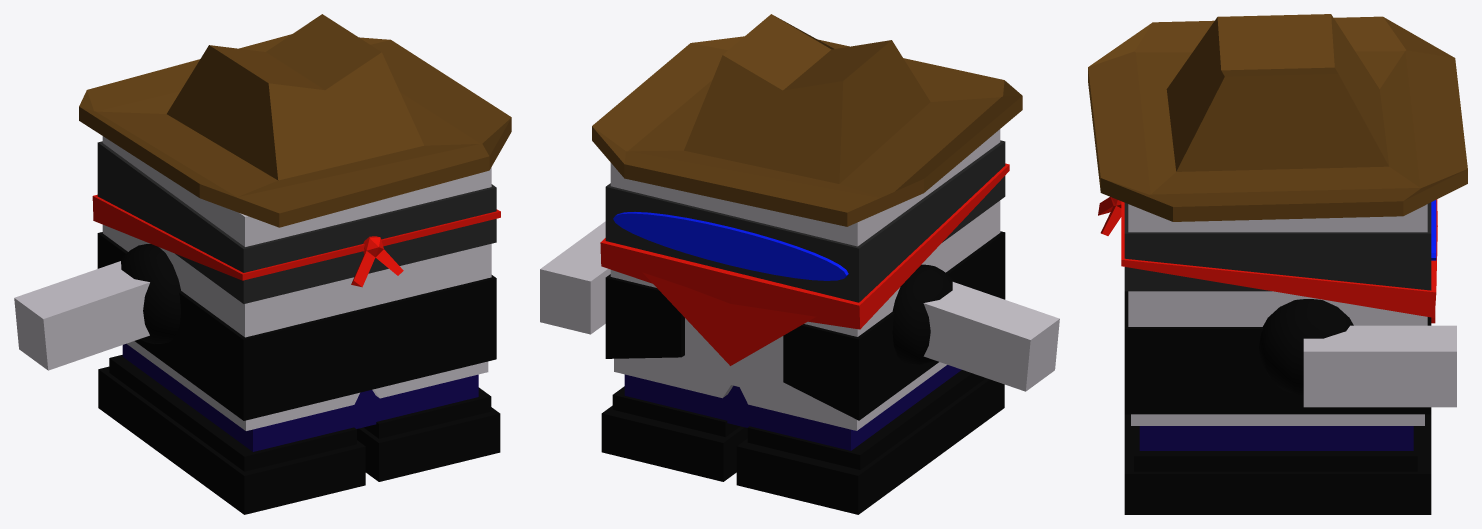
File: SmugglerModel.fbx
3 renders of one model, left to right at view 1: azimuth 30°, elevation 25°; view 2: azimuth 150°, elevation 25°; view 3: azimuth 270°, elevation 25°, orthographic. The views are drawn at different scales.
Visible parts, largest first — view 1: Cube, Body, Body.001, Head, Head.001, Cylinder; view 2: Body, Cube, Head, Body.001, Cylinder, Head.001; view 3: Cube, Body, Head, Body.001, Head.001, Cylinder.
Part boxes in pixels (<box>): Cube: <box>79,14,511,227</box>; Body: <box>14,244,500,514</box>; Body.001: <box>97,232,496,420</box>; Head: <box>97,141,496,303</box>; Head.001: <box>102,136,491,337</box>; Cylinder: <box>92,194,500,287</box>; Body: <box>540,221,1059,514</box>; Cube: <box>592,14,1022,226</box>; Head: <box>605,140,1005,302</box>; Body.001: <box>605,231,1005,420</box>; Cylinder: <box>600,163,1009,365</box>; Head.001: <box>610,129,1000,336</box>; Cube: <box>1088,14,1467,221</box>; Body: <box>1124,299,1456,514</box>; Head: <box>1124,200,1436,291</box>; Body.001: <box>1124,291,1431,414</box>; Head.001: <box>1128,204,1427,326</box>; Cylinder: <box>1098,197,1437,323</box>.
Bounding box in the file's own units: 343 × 289 × 248.
